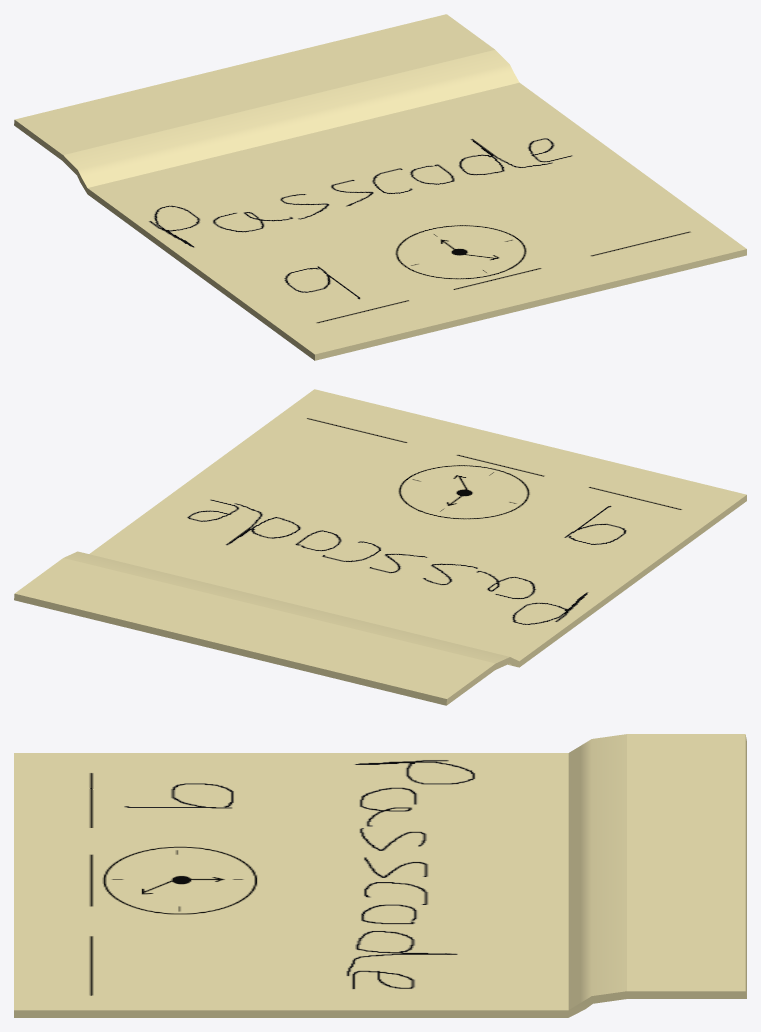
Rendered from stickynote.fbx.
3 views of the same model, one above another, from view 1: azimuth 30°, elevation 25°; view 2: azimuth 150°, elevation 25°; view 3: azimuth 270°, elevation 25° (orthographic). The views are drawn at different scales.
Parts seen in each view (by area): view 1: Cube.009; view 2: Cube.009; view 3: Cube.009.
Part boxes in pixels (box(x1,y1,x2,y2)): Cube.009: box(14, 14, 746, 360); Cube.009: box(14, 389, 746, 705); Cube.009: box(14, 734, 746, 1017).
Size of the model in its own units: 54.29 by 2.61 by 65.36.
Materials: 1 (1 with a texture image).
